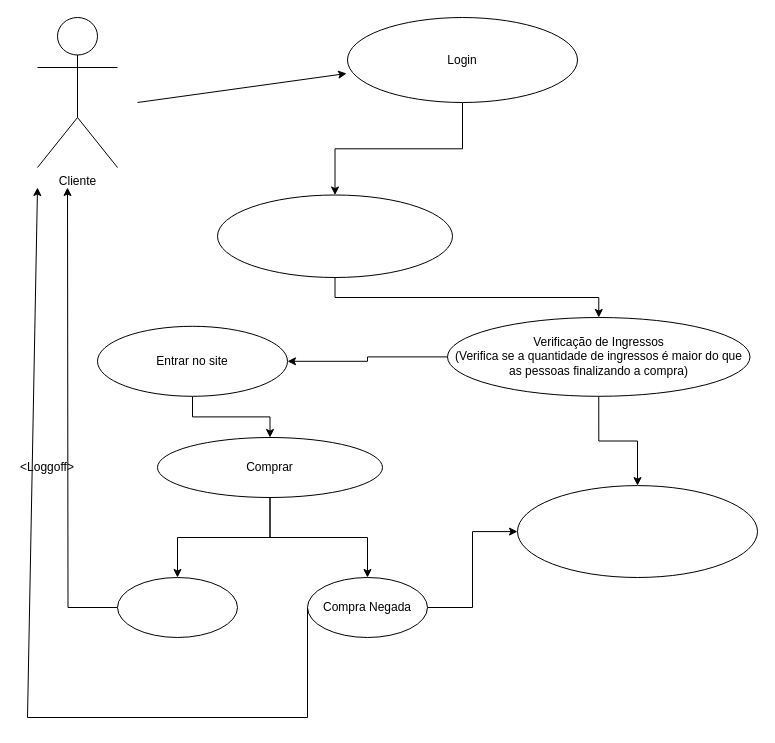
Image size: 775x743. Some labels were removed from this diagram. The centre of each missing label's shape, as x and y in pixels:
Compra Concluida: point (177, 607)
Mensagem Site Lotado: point (637, 531)
Verificação de Compras (Verifica a quantidade de pessoas já fechando o pedido): point (334, 236)
